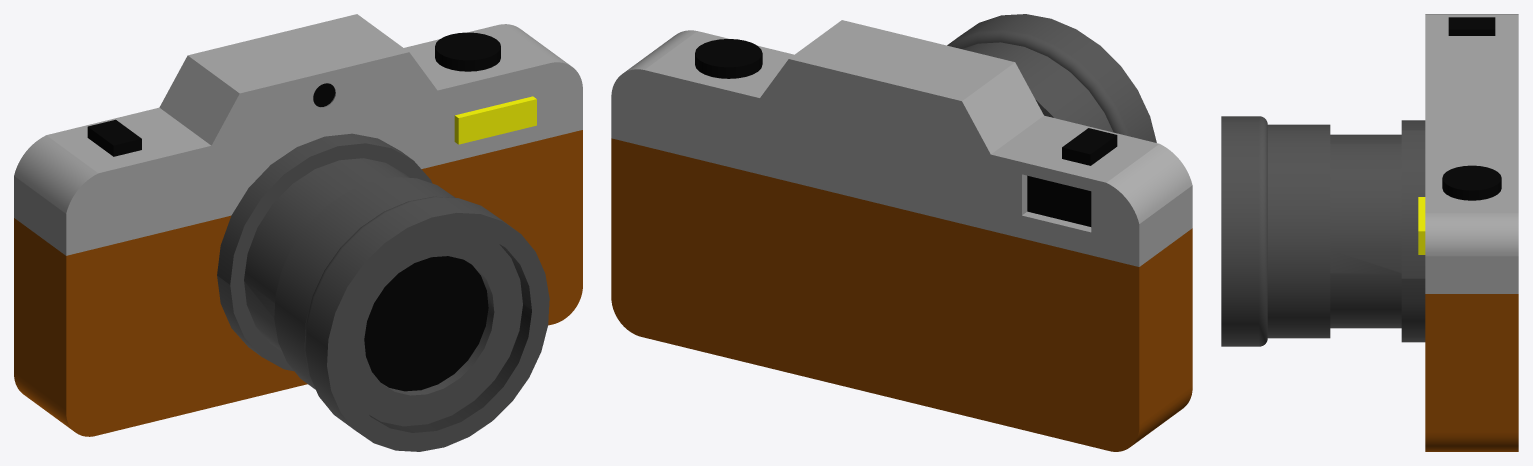
The model's file is camera.obj.
3 views of the same model, side by side, from view 1: azimuth 30°, elevation 25°; view 2: azimuth 150°, elevation 25°; view 3: azimuth 270°, elevation 25° (orthographic). The views are drawn at different scales.
Parts seen in each view (by area): view 1: SketchUp_ID3, SketchUp.001_ID11, SketchUp.014_ID101, SketchUp.008_ID59, SketchUp.006_ID47, SketchUp.005_ID41, SketchUp.004_ID33, SketchUp.015_ID107, SketchUp.013_ID93, SketchUp.011_ID81, SketchUp.012_ID87, SketchUp.007_ID53; view 2: SketchUp.001_ID11, SketchUp_ID3, SketchUp.014_ID101, SketchUp.017_ID121, SketchUp.011_ID81, SketchUp.012_ID87, SketchUp.018_ID127; view 3: SketchUp.014_ID101, SketchUp_ID3, SketchUp.001_ID11, SketchUp.004_ID33, SketchUp.005_ID41, SketchUp.011_ID81, SketchUp.012_ID87, SketchUp.013_ID93.
Part boxes in pixels (<box>): SketchUp_ID3: <box>14,14,582,255</box>; SketchUp.001_ID11: <box>14,130,582,436</box>; SketchUp.014_ID101: <box>274,177,549,451</box>; SketchUp.008_ID59: <box>364,256,488,391</box>; SketchUp.006_ID47: <box>344,231,522,426</box>; SketchUp.005_ID41: <box>217,133,432,371</box>; SketchUp.004_ID33: <box>244,158,409,351</box>; SketchUp.015_ID107: <box>369,244,531,432</box>; SketchUp.013_ID93: <box>454,96,536,144</box>; SketchUp.011_ID81: <box>435,32,500,71</box>; SketchUp.012_ID87: <box>87,119,141,156</box>; SketchUp.007_ID53: <box>381,265,494,395</box>; SketchUp.001_ID11: <box>611,138,1192,451</box>; SketchUp_ID3: <box>611,20,1192,266</box>; SketchUp.014_ID101: <box>947,14,1156,142</box>; SketchUp.017_ID121: <box>1027,175,1091,226</box>; SketchUp.011_ID81: <box>695,39,762,78</box>; SketchUp.012_ID87: <box>1062,128,1117,165</box>; SketchUp.018_ID127: <box>1022,174,1091,232</box>; SketchUp.014_ID101: <box>1221,116,1330,346</box>; SketchUp_ID3: <box>1425,14,1518,293</box>; SketchUp.001_ID11: <box>1425,294,1518,451</box>; SketchUp.004_ID33: <box>1330,134,1401,328</box>; SketchUp.005_ID41: <box>1401,120,1425,342</box>; SketchUp.011_ID81: <box>1442,165,1501,200</box>; SketchUp.012_ID87: <box>1448,17,1495,35</box>; SketchUp.013_ID93: <box>1418,197,1425,254</box>.
Bounding box in the file's own units: 5.63 × 3.2 × 3.13.
